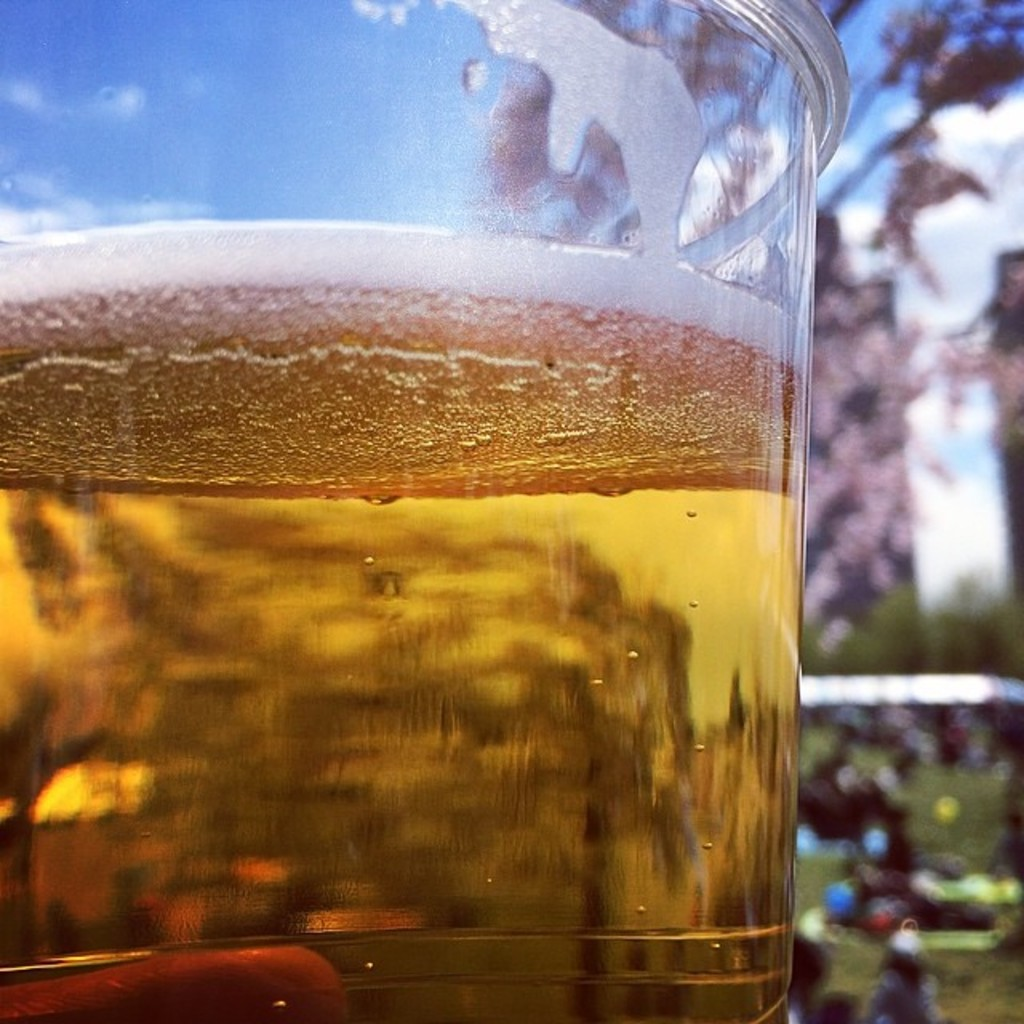Beer: (0, 0, 835, 1022)
